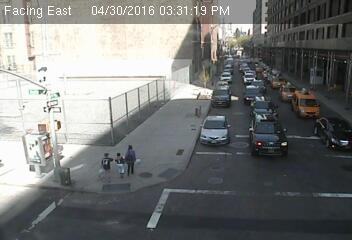neg: (23, 124, 55, 166), (301, 80, 324, 110), (266, 119, 288, 147), (170, 107, 190, 134), (233, 101, 252, 126)
pos: (88, 151, 112, 183), (123, 141, 147, 173), (109, 151, 128, 177)
